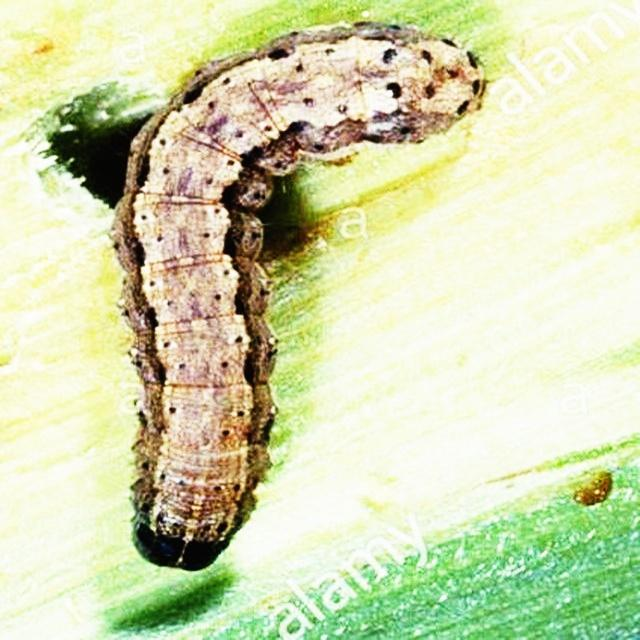Plaga: (117, 18, 491, 579)
